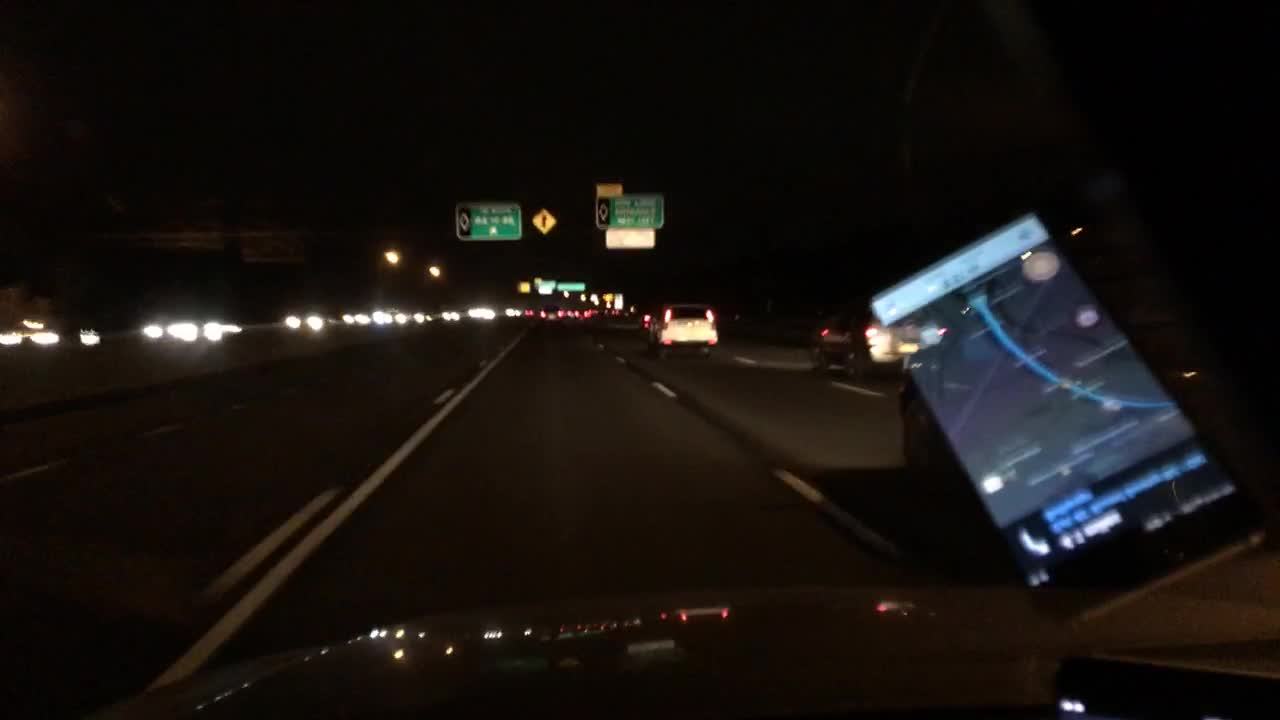car: (640, 302, 718, 357), (814, 318, 874, 371), (0, 318, 103, 344), (141, 315, 238, 341), (283, 312, 327, 329), (394, 310, 430, 325), (338, 312, 371, 325), (540, 305, 564, 318), (373, 309, 392, 325), (469, 308, 495, 318), (440, 309, 459, 320), (564, 309, 581, 319), (505, 306, 517, 316), (523, 308, 534, 316)
traffic light: (383, 249, 401, 262), (429, 262, 440, 277)
traffic sign: (456, 200, 521, 239), (595, 194, 665, 228), (605, 227, 656, 249), (532, 209, 556, 233), (598, 183, 622, 195), (556, 281, 582, 291), (519, 280, 532, 294), (535, 281, 556, 288), (602, 293, 613, 306), (532, 278, 541, 288), (539, 285, 551, 291)
